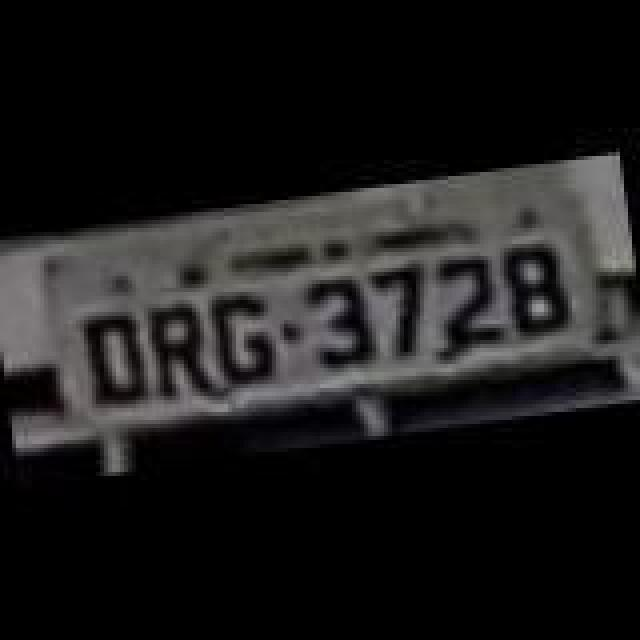2: (430, 250, 514, 350)
3: (300, 276, 372, 380)
7: (370, 262, 446, 362)
8: (494, 236, 578, 340)
D: (80, 306, 160, 414)
G: (206, 290, 290, 390)
R: (142, 298, 210, 406)
